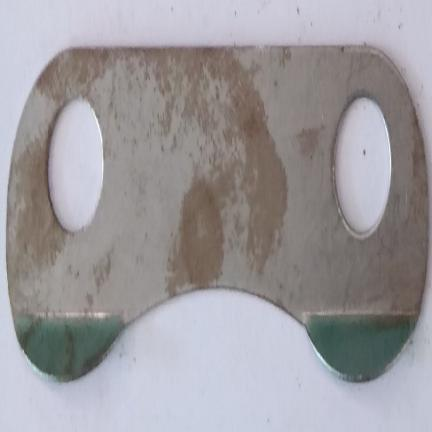besi_tidak_karat: (246, 49, 427, 378), (15, 150, 186, 374)
karat: (137, 47, 289, 281), (9, 144, 66, 304), (37, 50, 135, 99), (179, 179, 223, 285)
